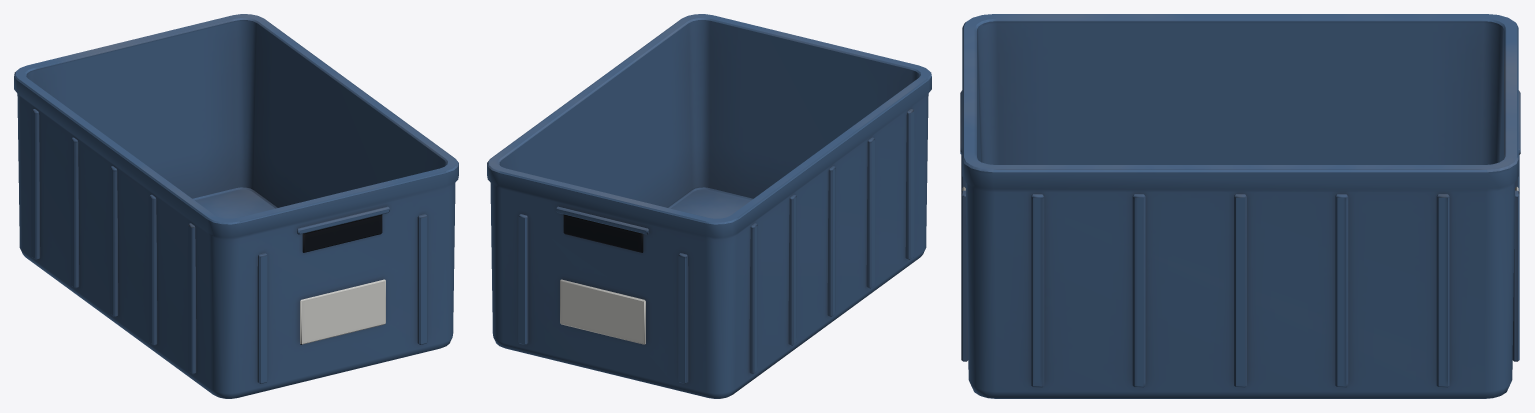
The model's file is Tote.fbx.
The picture shows the model from 3 angles, left to right: view 1: azimuth 30°, elevation 25°; view 2: azimuth 150°, elevation 25°; view 3: azimuth 270°, elevation 25°; orthographic projection. The views are drawn at different scales.
Visible parts, largest first — view 1: Tote_LOD0; view 2: Tote_LOD0; view 3: Tote_LOD0.
Boxes of the visible parts, x1,y1,x2,y2 form: Tote_LOD0: (14,14,458,398); Tote_LOD0: (487,14,931,398); Tote_LOD0: (960,14,1520,398).
Size of what is drawn, in the model's own units: 0.406 by 0.28 by 0.608.
Materials: 1 (1 with a texture image).
